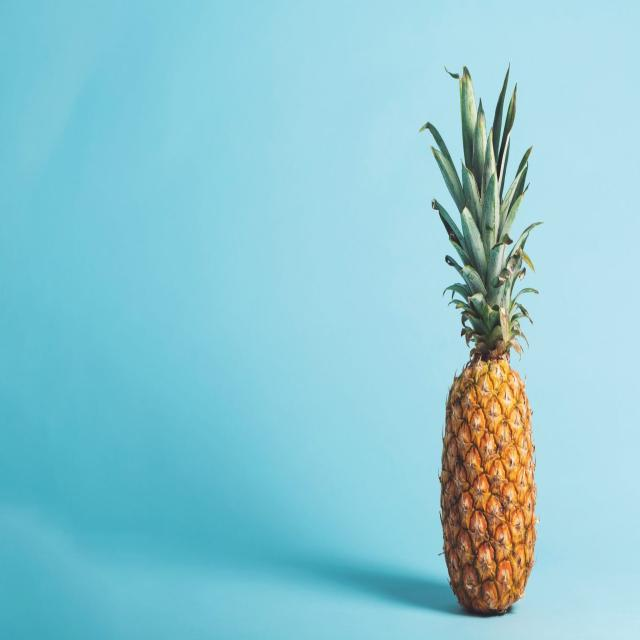pineapple: (425, 255, 549, 622)
